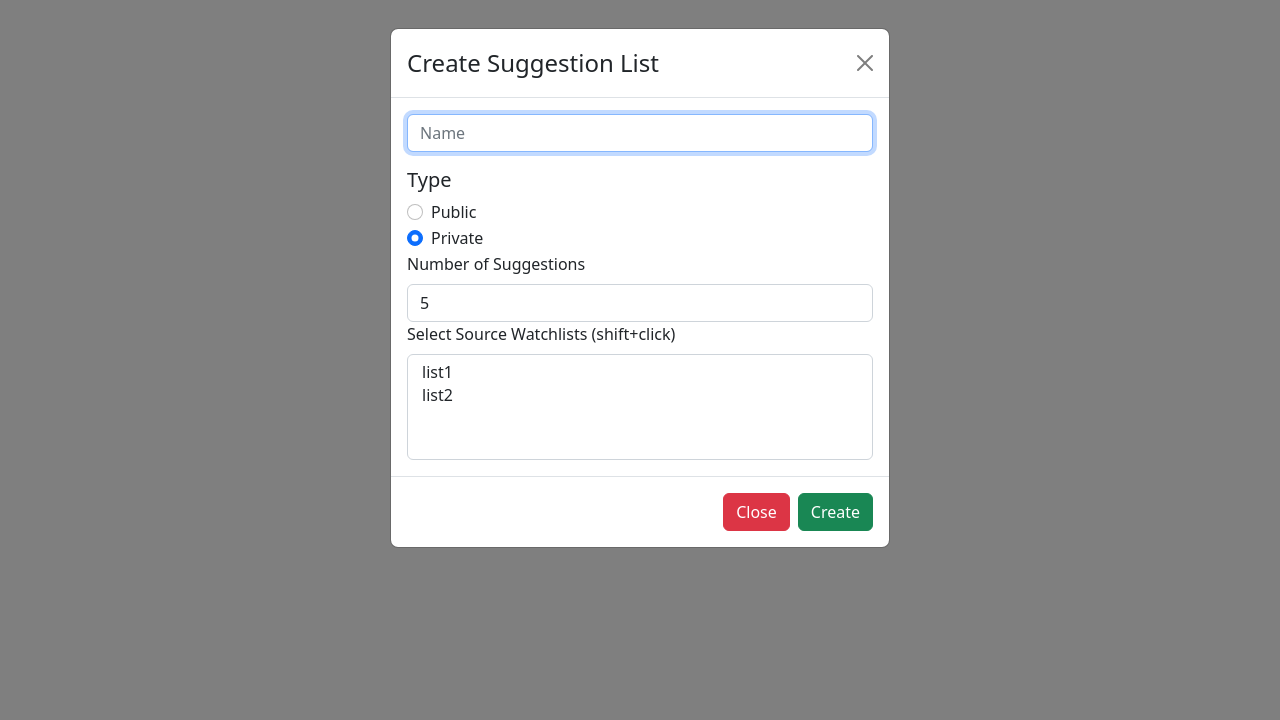
Test: WatchlistDetail page › shows an error message when no source list selected
The width and height of the screenshot is (1280, 720).
Type "Watchlist 1" into the field with placeholder "Name".
click(640, 133); type("Watchlist 1")  # box [407,114,873,152]
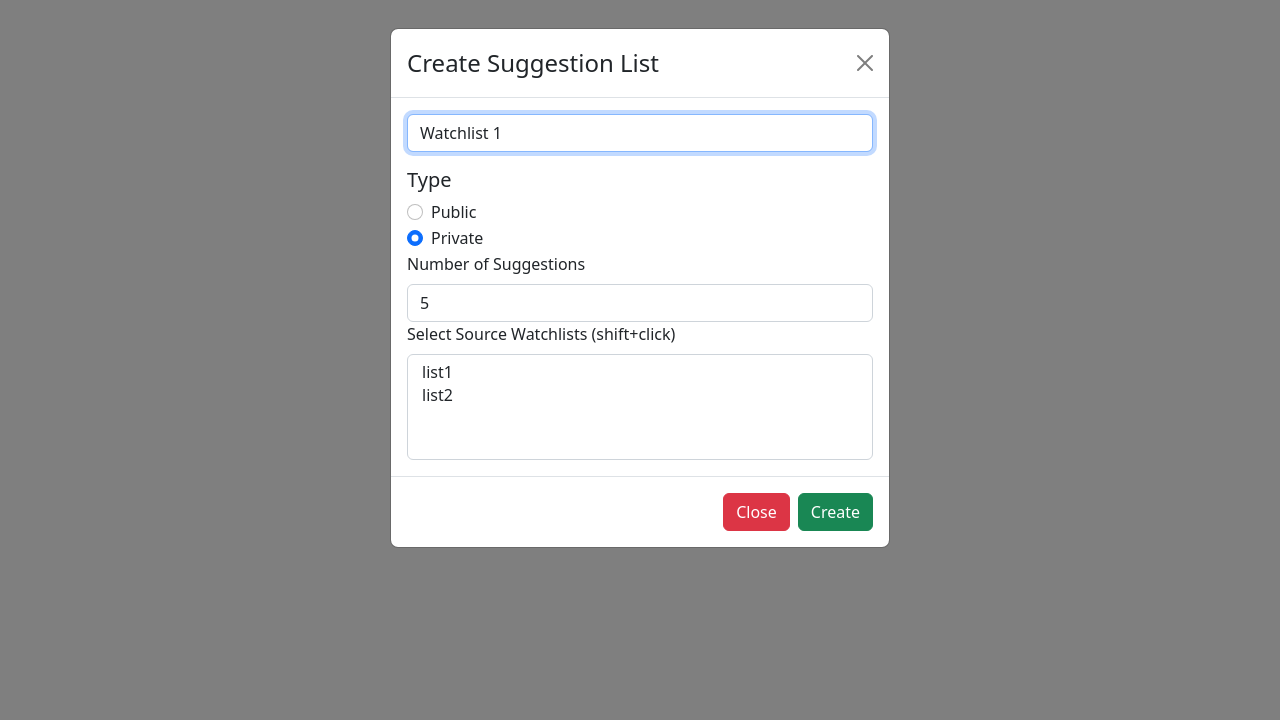
Click the button with test id "createHandleSubmit".
click(835, 512)  # box [798,493,873,531]
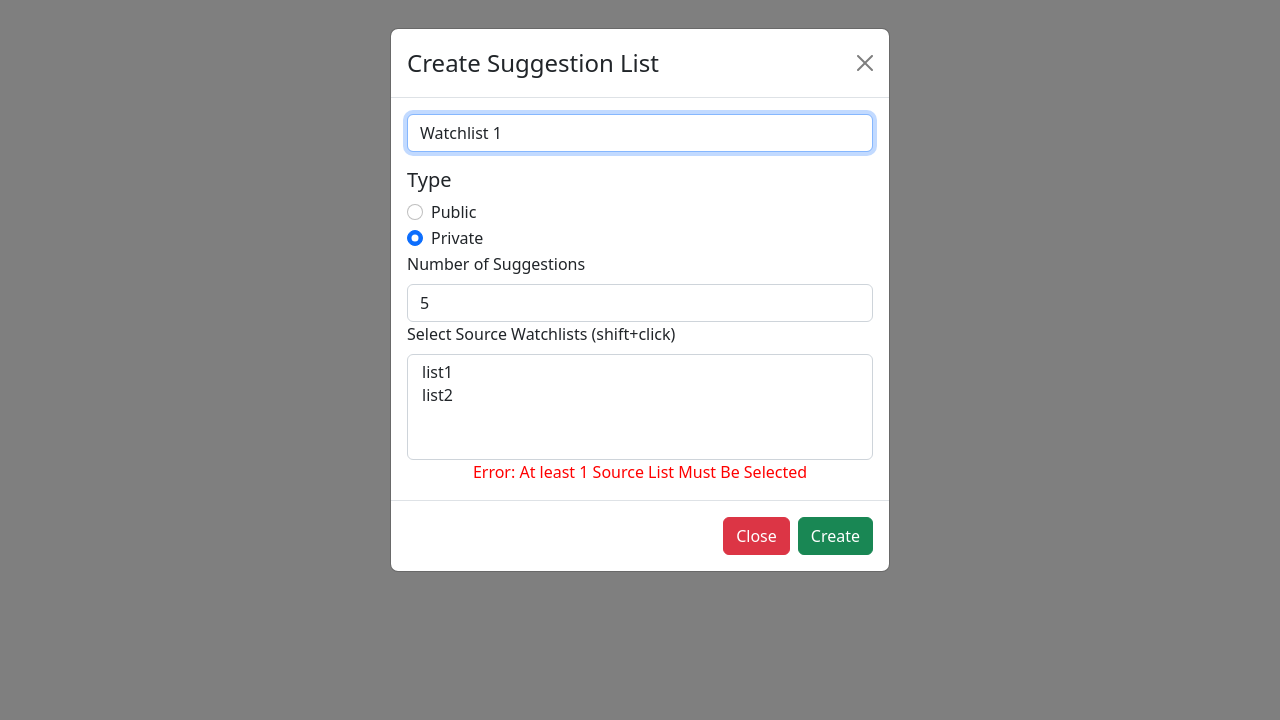
Result: the text "Error: At least 1 Source List Must Be Selected" is shown at [473,461,807,483]
